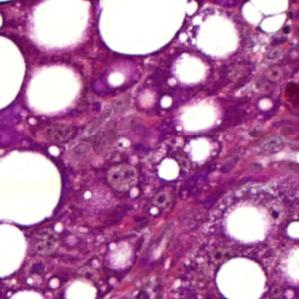steatosis: (25, 61, 84, 114), (212, 252, 266, 291), (155, 155, 181, 182)
